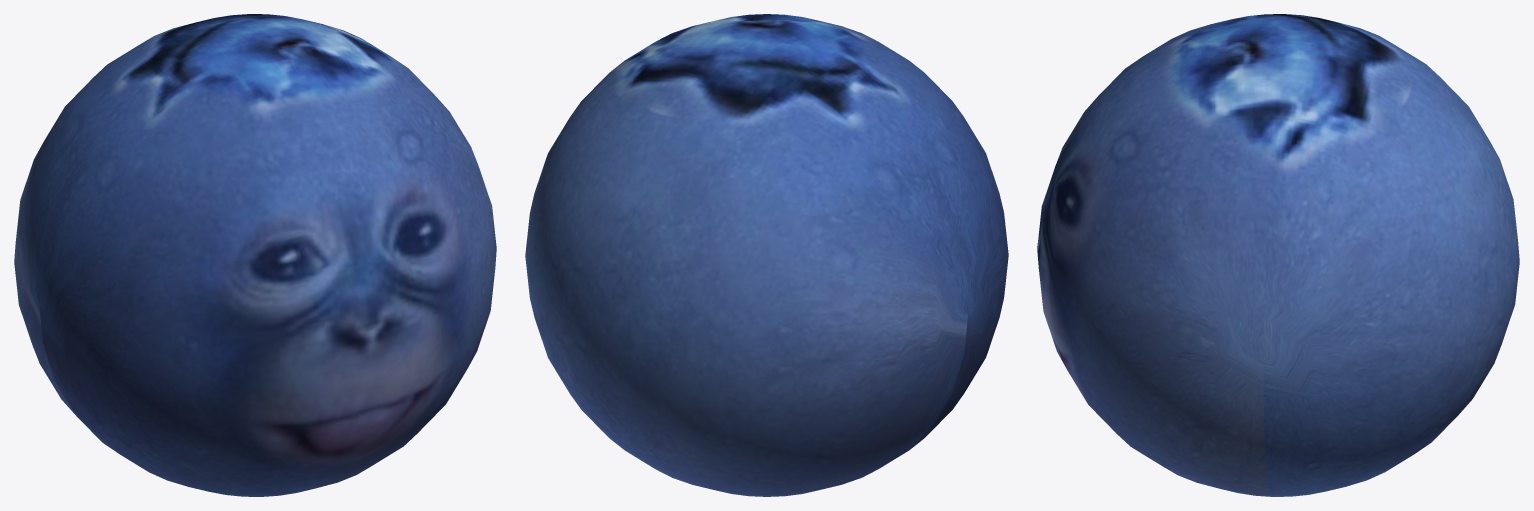
Rendered from monkeyberry.gltf.
3 renders of one model, left to right at view 1: azimuth 30°, elevation 25°; view 2: azimuth 150°, elevation 25°; view 3: azimuth 270°, elevation 25°, orthographic.
Visible parts, largest first — view 1: Sphere; view 2: Sphere; view 3: Sphere.
Part boxes in pixels (box(x1,y1,x2,y2)): Sphere: box(14, 14, 496, 496); Sphere: box(525, 14, 1008, 496); Sphere: box(1037, 14, 1519, 496).
Bounding box in the file's own units: 2 × 2 × 2.
1 material, 1 textured.
